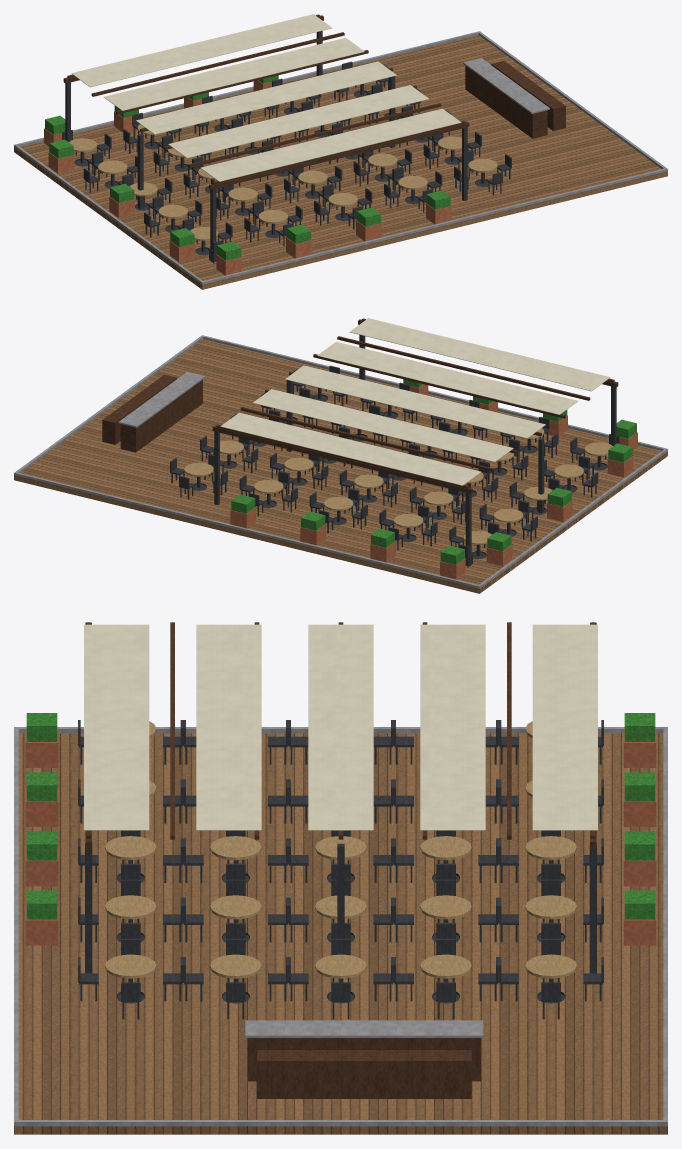
File: rooftop_restaurant.obj
3 views of the same model, one above another, from view 1: azimuth 30°, elevation 25°; view 2: azimuth 150°, elevation 25°; view 3: azimuth 270°, elevation 25° (orthographic). The views are drawn at different scales.
Visible parts, largest first — view 1: deck, pergola_canopy, chair, deck_trim, pergola_beams, table, planter, bar_body, foliage, table_base, pergola_posts, bar_top; view 2: deck, pergola_canopy, chair, deck_trim, pergola_beams, table, planter, bar_body, foliage, table_base, pergola_posts, bar_top; view 3: deck, pergola_canopy, chair, table, bar_body, deck_trim, planter, foliage, bar_top, pergola_posts, pergola_beams, table_base.
Part boxes in pixels (x1=…): deck: x1=14, y1=35, x2=667, y2=289; pergola_canopy: x1=71, y1=14, x2=461, y2=181; chair: x1=62, y1=61, x2=511, y2=263; deck_trim: x1=14, y1=31, x2=667, y2=284; pergola_beams: x1=63, y1=14, x2=469, y2=189; table: x1=69, y1=81, x2=497, y2=240; planter: x1=44, y1=80, x2=451, y2=275; bar_body: x1=465, y1=61, x2=565, y2=138; foliage: x1=45, y1=75, x2=450, y2=260; table_base: x1=74, y1=84, x2=490, y2=254; pergola_posts: x1=65, y1=31, x2=467, y2=262; bar_top: x1=463, y1=58, x2=549, y2=113; deck: x1=14, y1=339, x2=667, y2=593; pergola_canopy: x1=220, y1=318, x2=610, y2=485; chair: x1=170, y1=365, x2=619, y2=567; deck_trim: x1=14, y1=335, x2=667, y2=588; pergola_beams: x1=212, y1=318, x2=618, y2=493; table: x1=184, y1=385, x2=612, y2=544; planter: x1=230, y1=384, x2=637, y2=579; bar_body: x1=102, y1=374, x2=202, y2=452; foliage: x1=231, y1=379, x2=636, y2=564; table_base: x1=191, y1=388, x2=607, y2=558; pergola_posts: x1=214, y1=335, x2=616, y2=566; bar_top: x1=118, y1=372, x2=205, y2=427; deck: x1=14, y1=733, x2=667, y2=1134; pergola_canopy: x1=84, y1=624, x2=597, y2=830; chair: x1=78, y1=720, x2=603, y2=1019; table: x1=105, y1=721, x2=576, y2=978; bar_body: x1=247, y1=1038, x2=480, y2=1098; deck_trim: x1=14, y1=727, x2=667, y2=1126; planter: x1=25, y1=728, x2=656, y2=945; foliage: x1=26, y1=713, x2=655, y2=919; bar_top: x1=245, y1=1020, x2=483, y2=1037; pergola_posts: x1=85, y1=843, x2=596, y2=973; pergola_beams: x1=85, y1=622, x2=596, y2=848; table_base: x1=116, y1=860, x2=565, y2=1003.
Bounding box in the file's own units: 20 × 3.47 × 14.
Materials: 8 (8 with a texture image).
